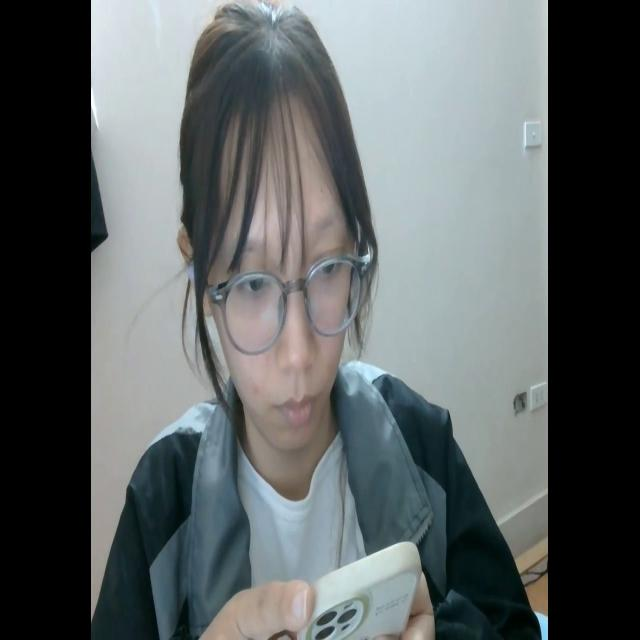phone: (296, 533, 420, 640)
student: (99, 6, 538, 640)
